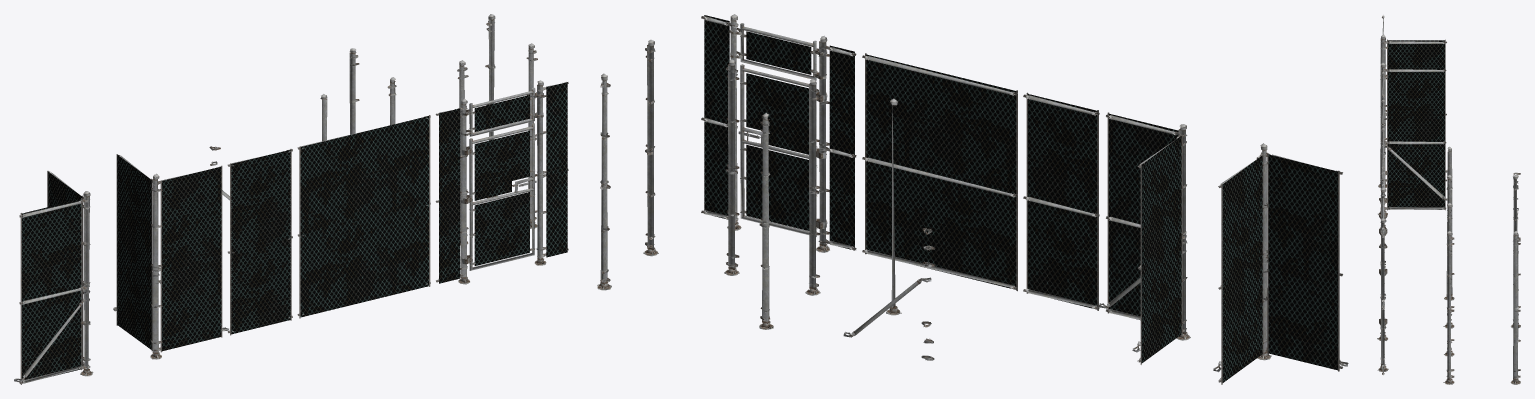
File: modular_chainlink_fence_lod.glb
The picture shows the model from 3 angles, left to right: view 1: azimuth 30°, elevation 25°; view 2: azimuth 150°, elevation 25°; view 3: azimuth 270°, elevation 25°; orthographic projection. The views are drawn at different scales.
Visible parts, largest first — view 1: modular_chainlink_fence_double, modular_chainlink_fence_corner_outer, modular_chainlink_fence_corner_inner, modular_chainlink_fence_door_frame, modular_chainlink_fence, modular_chainlink_fence_door_gate, modular_chainlink_fence_start_01_corner_01, modular_chainlink_fence_start_01_corner_02, modular_chainlink_fence_end_02; view 2: modular_chainlink_fence_double, modular_chainlink_fence_corner_inner, modular_chainlink_fence_corner_outer, modular_chainlink_fence_door_frame, modular_chainlink_fence, modular_chainlink_fence_door_gate, modular_chainlink_post_middle, modular_chainlink_fence_end_02, modular_chainlink_fence_end_01, modular_chainlink_fence_start_01_corner_01, modular_chainlink_fence_start_01_corner_02, modular_chainlink_fence_post; view 3: modular_chainlink_fence_corner_outer, modular_chainlink_fence_corner_inner, modular_chainlink_fence_door_frame, modular_chainlink_fence_start_01_corner_02, modular_chainlink_fence_start_01_corner_01, modular_chainlink_fence_post, modular_chainlink_fence_end_02, modular_chainlink_post_middle, modular_chainlink_fence_end_01.
Boxes of the visible parts, x1,y1,x2,y2 form: modular_chainlink_fence_double: [297, 115, 430, 318]; modular_chainlink_fence_corner_outer: [113, 154, 228, 359]; modular_chainlink_fence_corner_inner: [14, 171, 93, 384]; modular_chainlink_fence_door_frame: [435, 80, 568, 284]; modular_chainlink_fence: [227, 149, 292, 335]; modular_chainlink_fence_door_gate: [469, 123, 535, 270]; modular_chainlink_fence_start_01_corner_01: [526, 43, 537, 228]; modular_chainlink_fence_start_01_corner_02: [485, 14, 497, 198]; modular_chainlink_fence_end_02: [349, 48, 359, 134]; modular_chainlink_fence_double: [862, 53, 1017, 291]; modular_chainlink_fence_corner_inner: [1213, 143, 1348, 384]; modular_chainlink_fence_corner_outer: [1098, 112, 1190, 364]; modular_chainlink_fence_door_frame: [701, 14, 856, 252]; modular_chainlink_fence: [1023, 92, 1099, 310]; modular_chainlink_fence_door_gate: [740, 64, 817, 236]; modular_chainlink_post_middle: [724, 59, 739, 275]; modular_chainlink_fence_end_02: [759, 113, 773, 329]; modular_chainlink_fence_end_01: [805, 79, 820, 295]; modular_chainlink_fence_start_01_corner_01: [643, 39, 658, 256]; modular_chainlink_fence_start_01_corner_02: [597, 73, 611, 290]; modular_chainlink_fence_post: [886, 98, 901, 315]; modular_chainlink_fence_corner_outer: [1378, 62, 1447, 215]; modular_chainlink_fence_corner_inner: [1378, 15, 1447, 188]; modular_chainlink_fence_door_frame: [1377, 183, 1388, 375]; modular_chainlink_fence_start_01_corner_02: [1510, 231, 1520, 384]; modular_chainlink_fence_start_01_corner_01: [1443, 231, 1454, 384]; modular_chainlink_fence_post: [1444, 146, 1454, 300]; modular_chainlink_fence_end_02: [1511, 174, 1520, 328]; modular_chainlink_post_middle: [1444, 203, 1454, 356]; modular_chainlink_fence_end_01: [1443, 175, 1454, 328].
Size of the model in its own units: 8.14 by 2.53 by 2.17.
2 materials, 2 textured.
